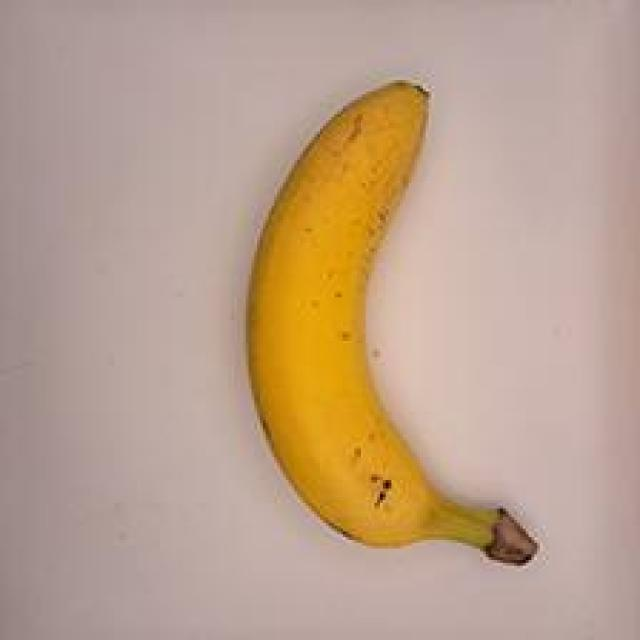Ripe: (217, 48, 558, 588)
